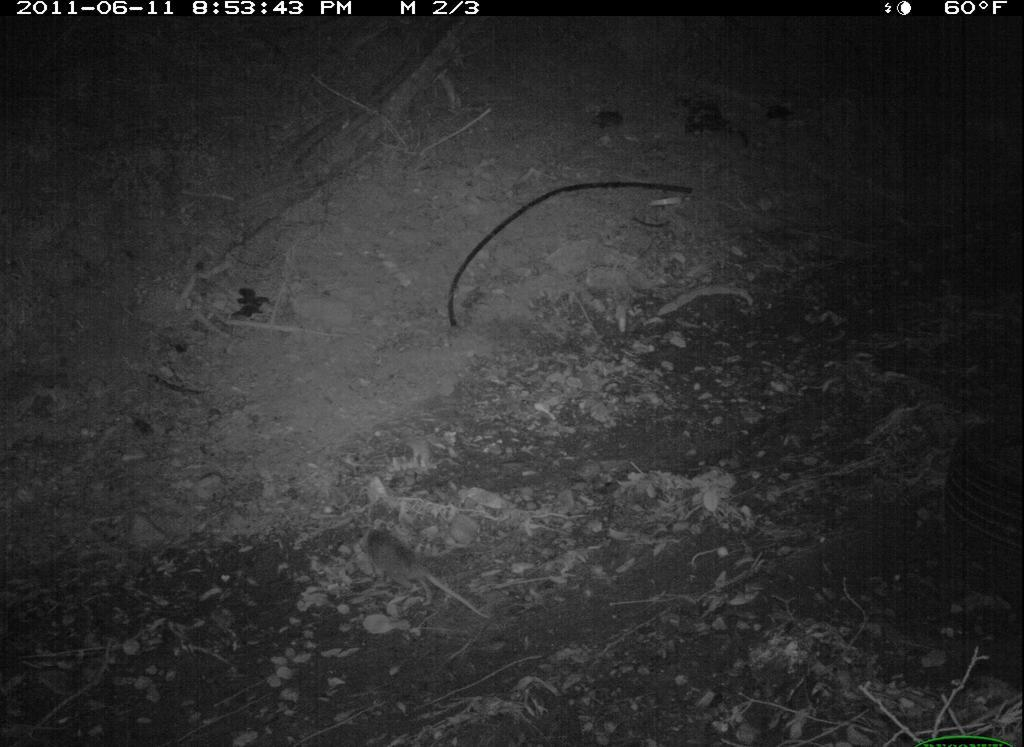opossum: (337, 519, 506, 637)
